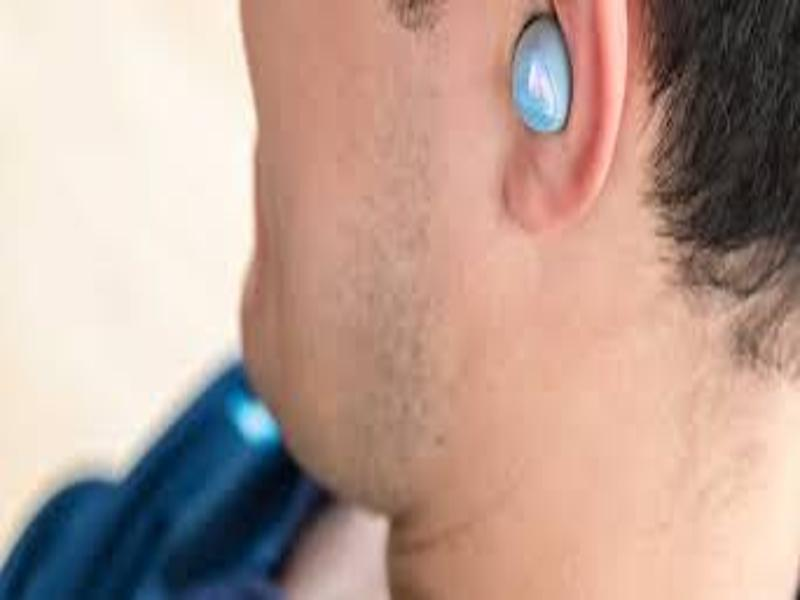headphone: (509, 10, 579, 133)
